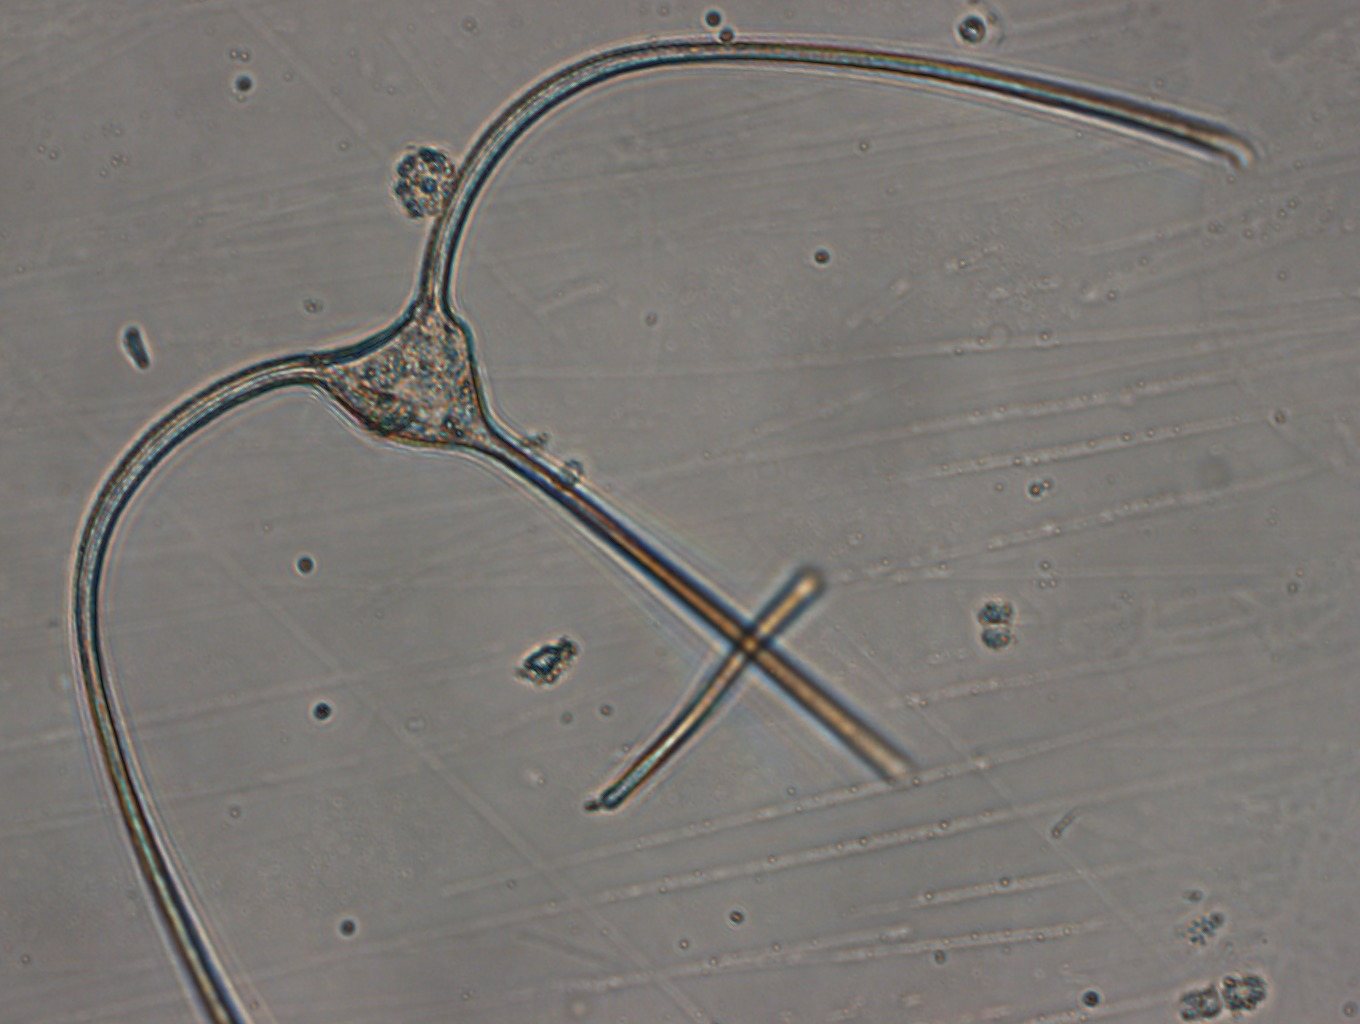ceratium trichoceros: (65, 27, 1252, 1023)
